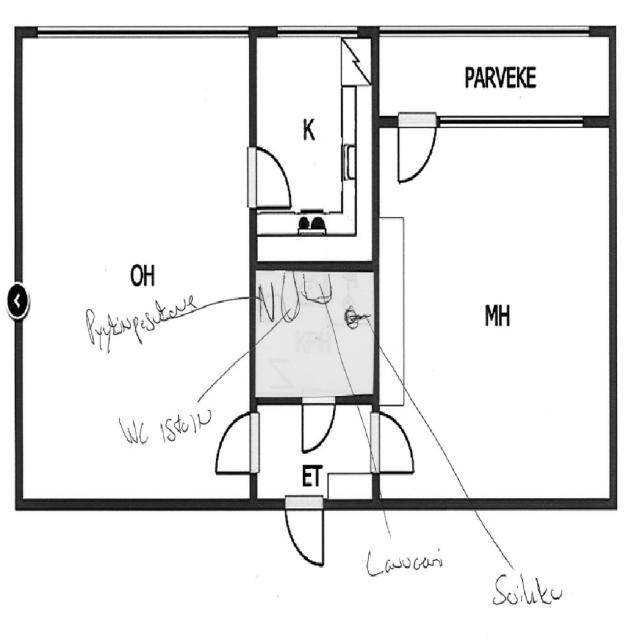door: (279, 394, 357, 490), (246, 138, 294, 215), (282, 493, 328, 571), (394, 108, 439, 187), (370, 404, 416, 478), (212, 408, 260, 478), (298, 394, 336, 456)
window: (428, 107, 592, 142), (380, 22, 594, 40), (33, 22, 251, 38), (272, 14, 364, 45)
zone: (21, 36, 253, 500), (375, 120, 618, 509), (252, 32, 375, 266), (253, 267, 375, 402), (260, 401, 376, 503)
